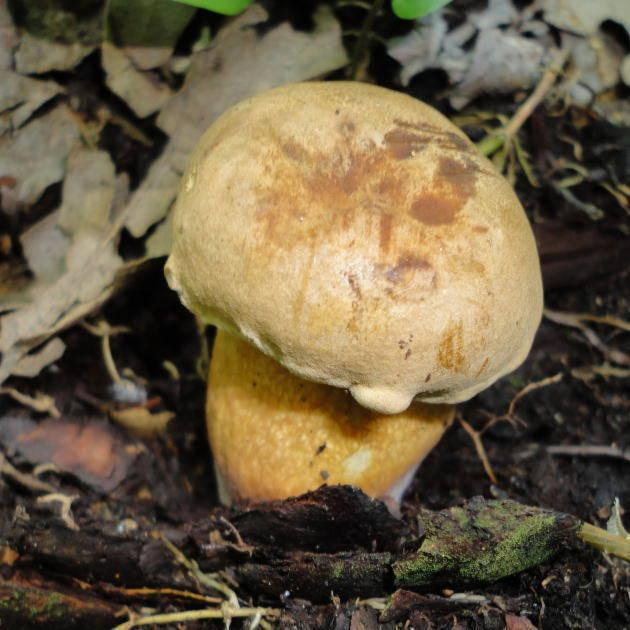poisonous_mushroom: (162, 77, 545, 519)
